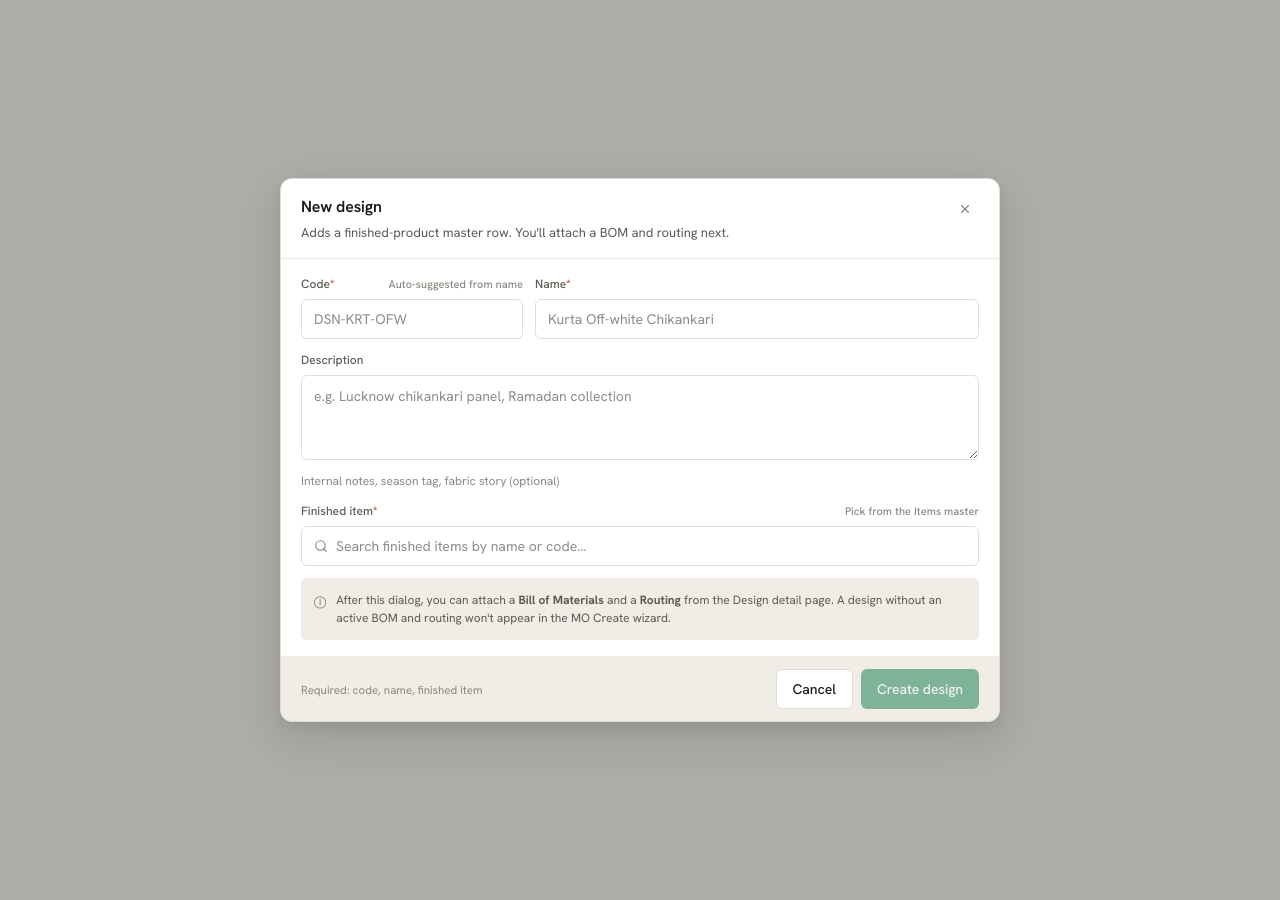
NewDesignDialog (live-mode, TASK-TR-E1) › Submit stays disabled until name >= 3 chars AND a finished item is picked
The width and height of the screenshot is (1280, 900).
Type "Ku" into the field labelled "Name*" at point(757, 319), box [536, 309, 978, 330]
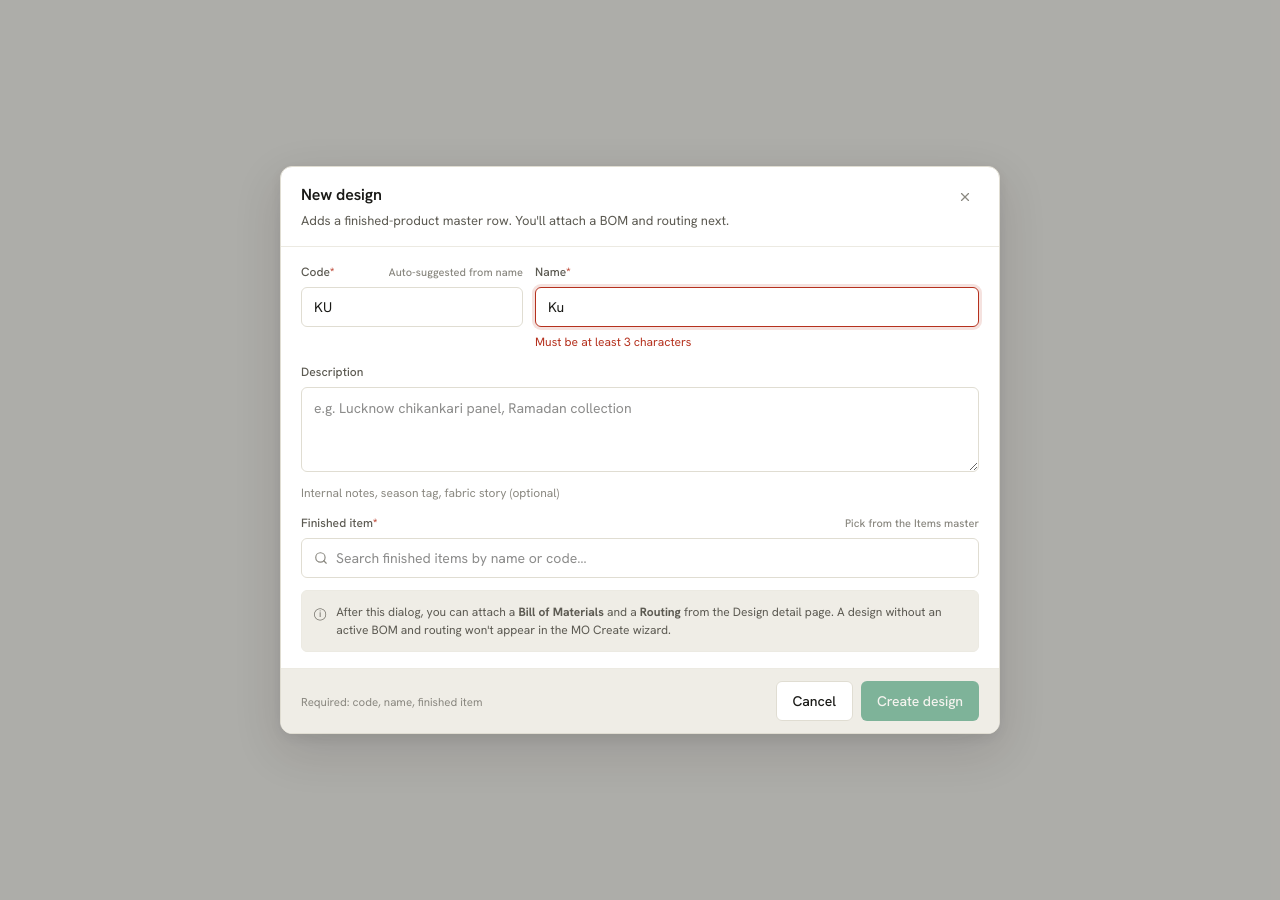
Expected: the button "Create design" is disabled, [861, 681, 979, 721]
Replace the text in the field labelled "Name* Must be at least 3 characters" with "Kurta Pink" at point(757, 307), box [536, 297, 978, 318]
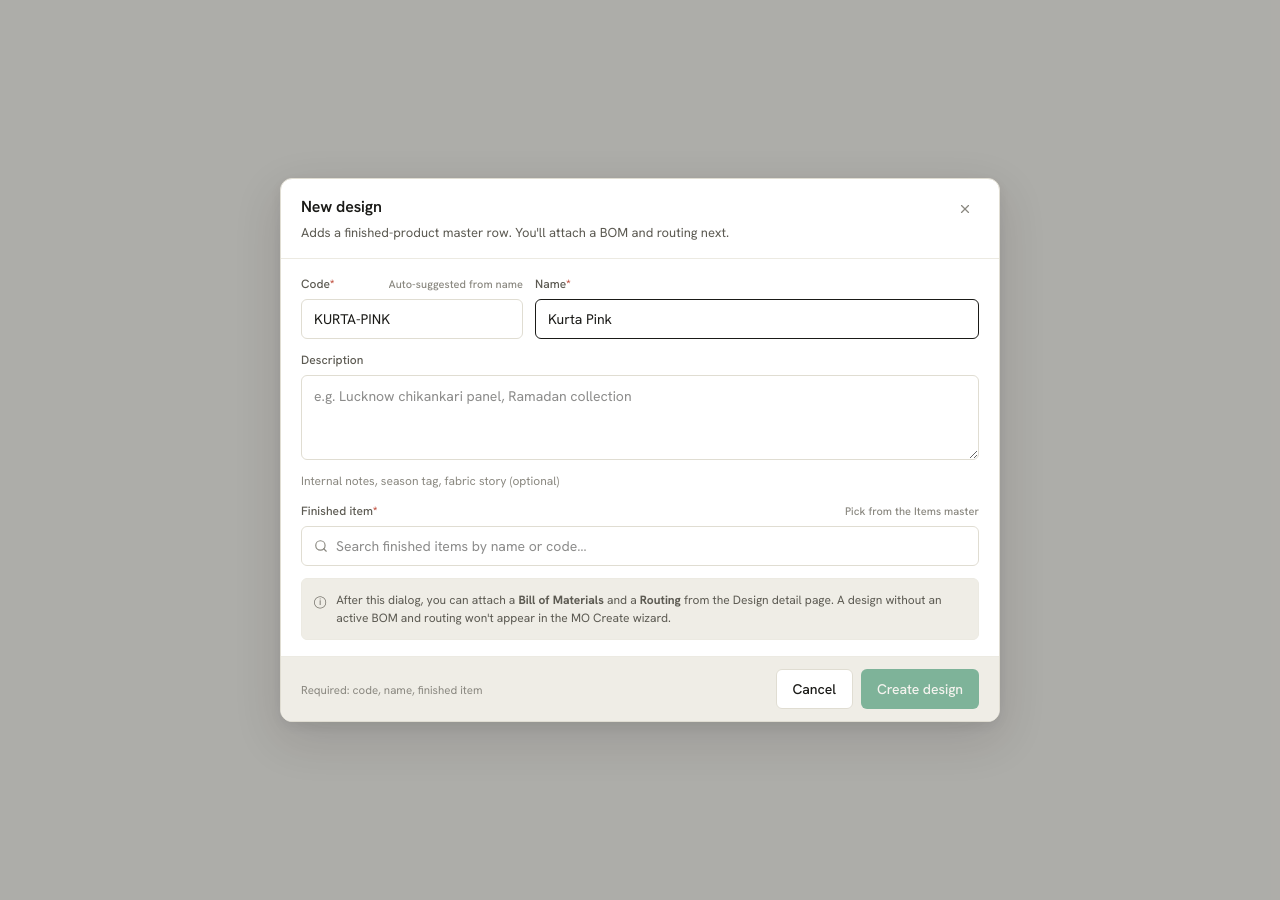
Expected: the button "Create design" is disabled, [861, 669, 979, 709]
Pick a finished item via the typeahead.
Type "kurta" into the field labelled "Finished item* Pick from the Items master" at point(651, 546), box [336, 536, 966, 557]
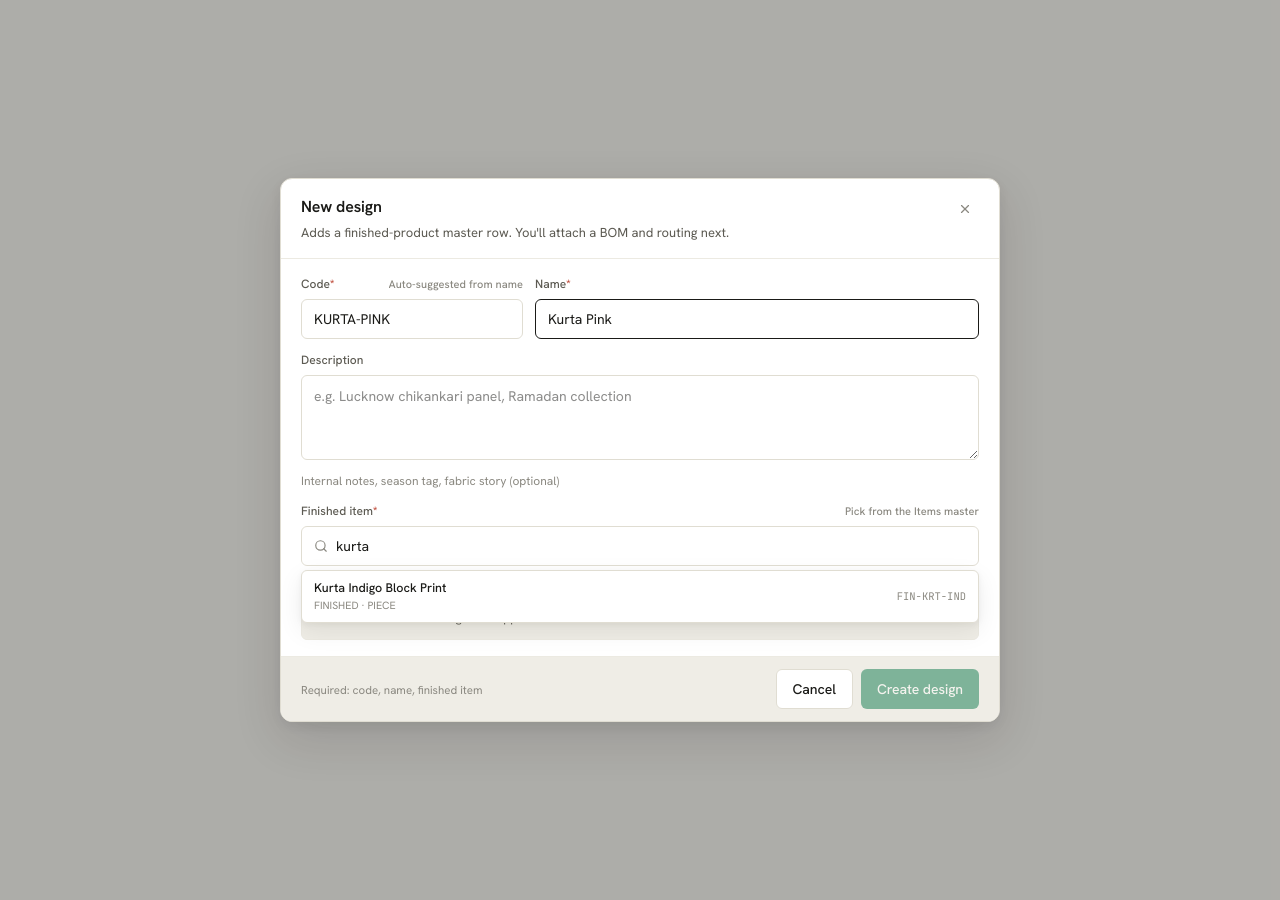
Expected: the text "Kurta Indigo Block Print" is shown
Click the text "Kurta Indigo Block Print" at point(380, 588), box [314, 579, 446, 596]
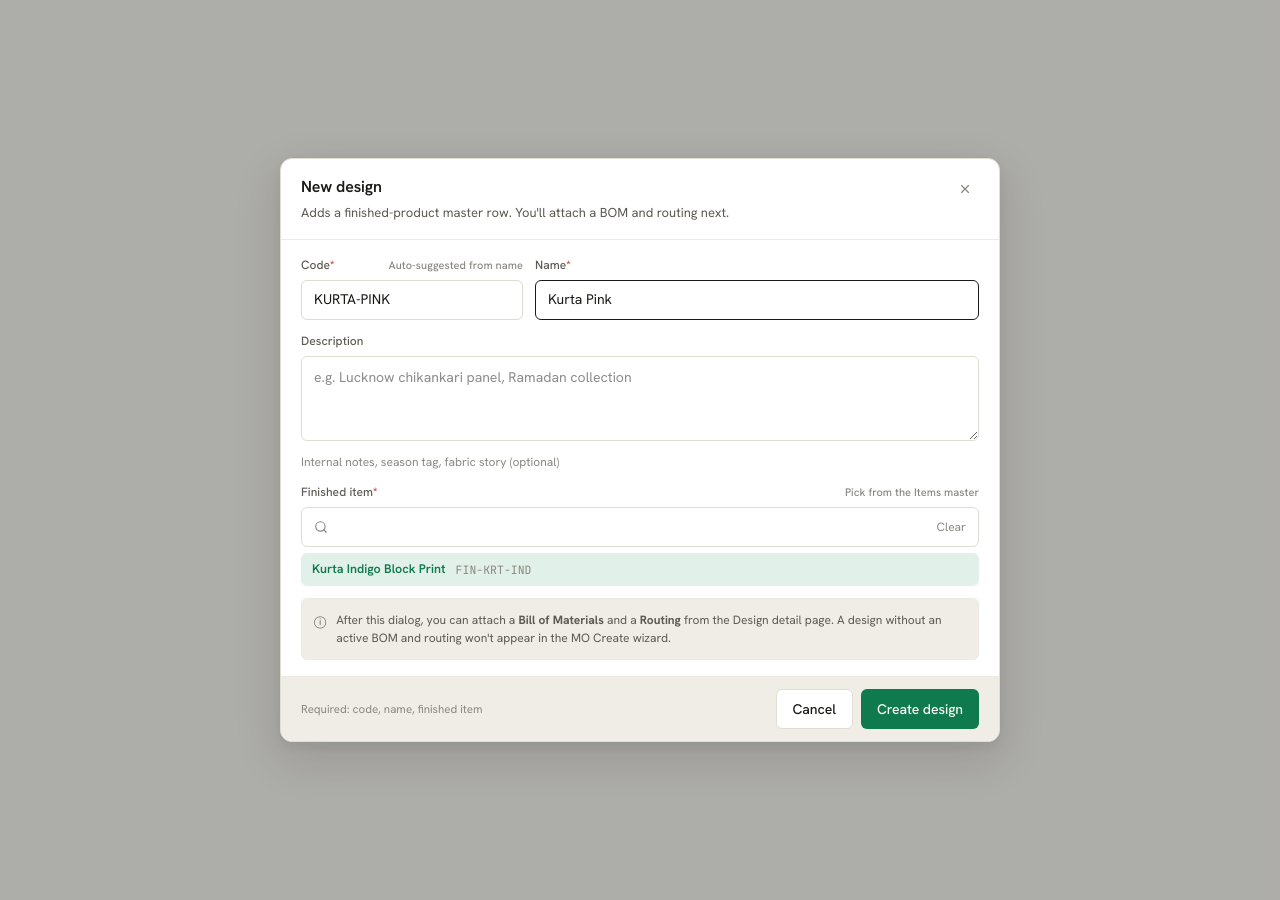
Expected: the button "Create design" is enabled, [861, 689, 979, 729]
